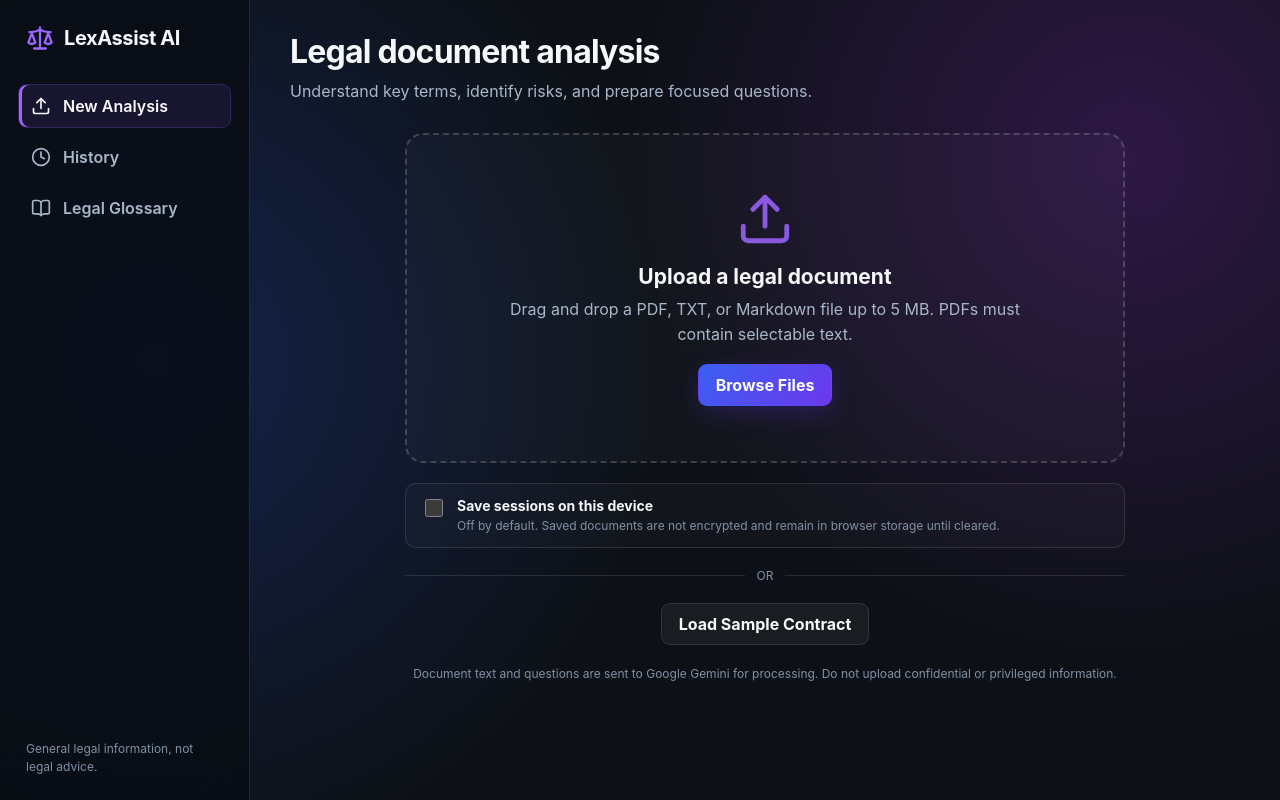
Scenario: App workflows › restores a failed question for retry
The image size is (1280, 800).
Click the button "Load Sample Contract".
click(765, 624)  # box [661, 603, 869, 645]
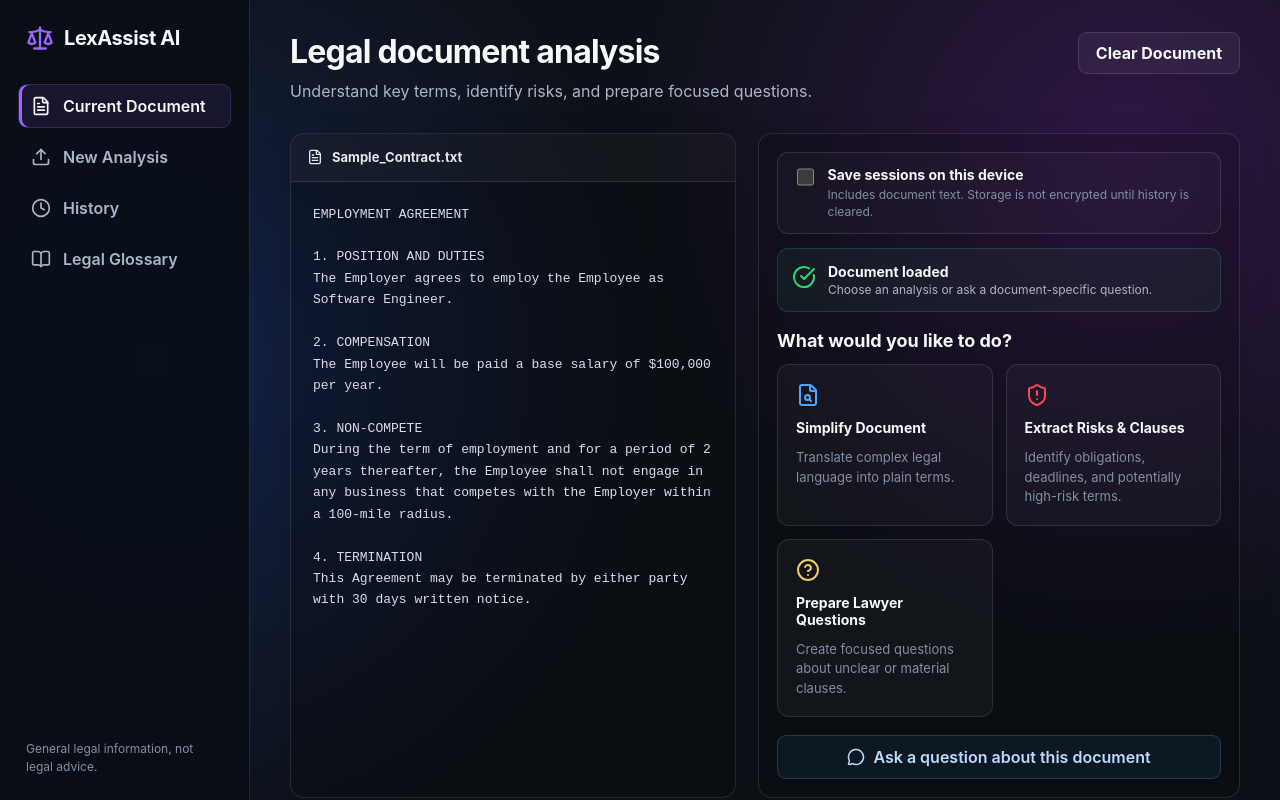
Click the button "Ask a question about this document".
click(999, 757)  # box [777, 735, 1221, 779]
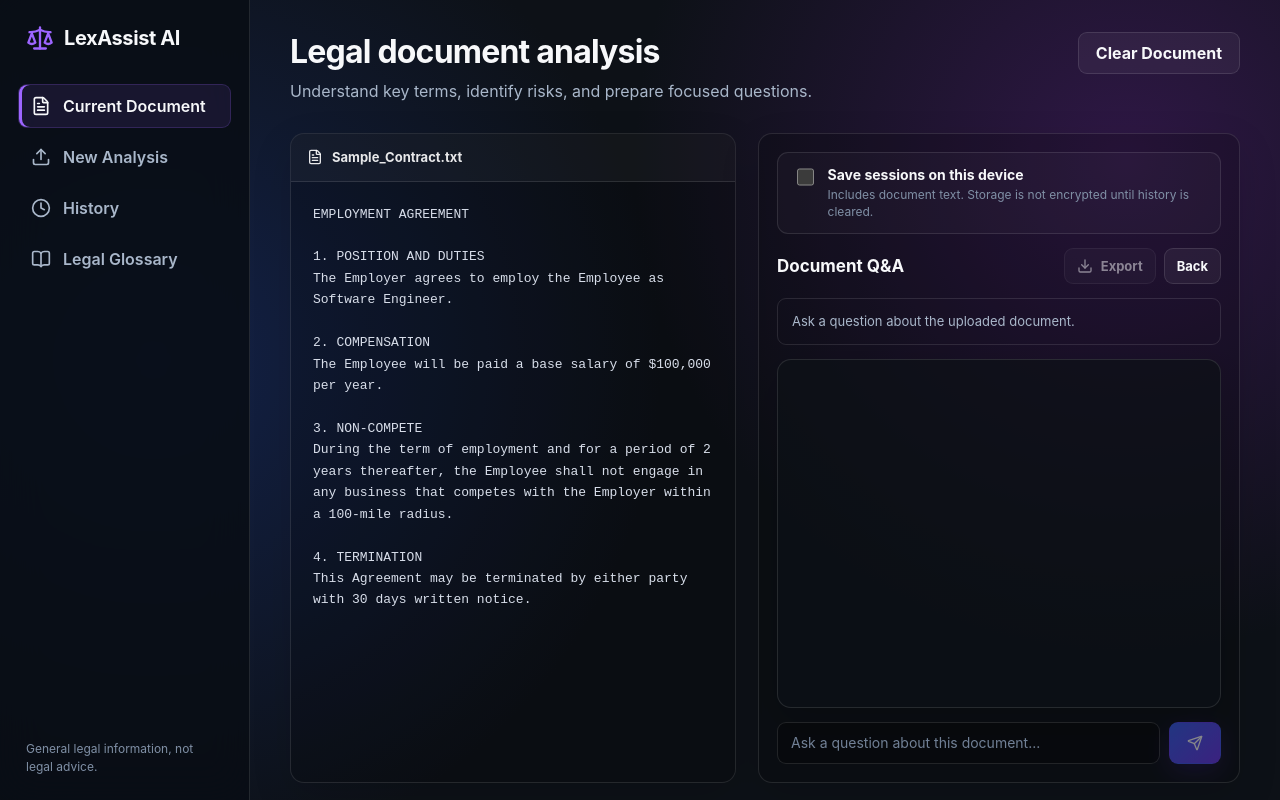
Type "What is the term?" into the field labelled "Ask a question about this document...".
click(968, 743); type("What is the term?")  # box [777, 722, 1160, 764]
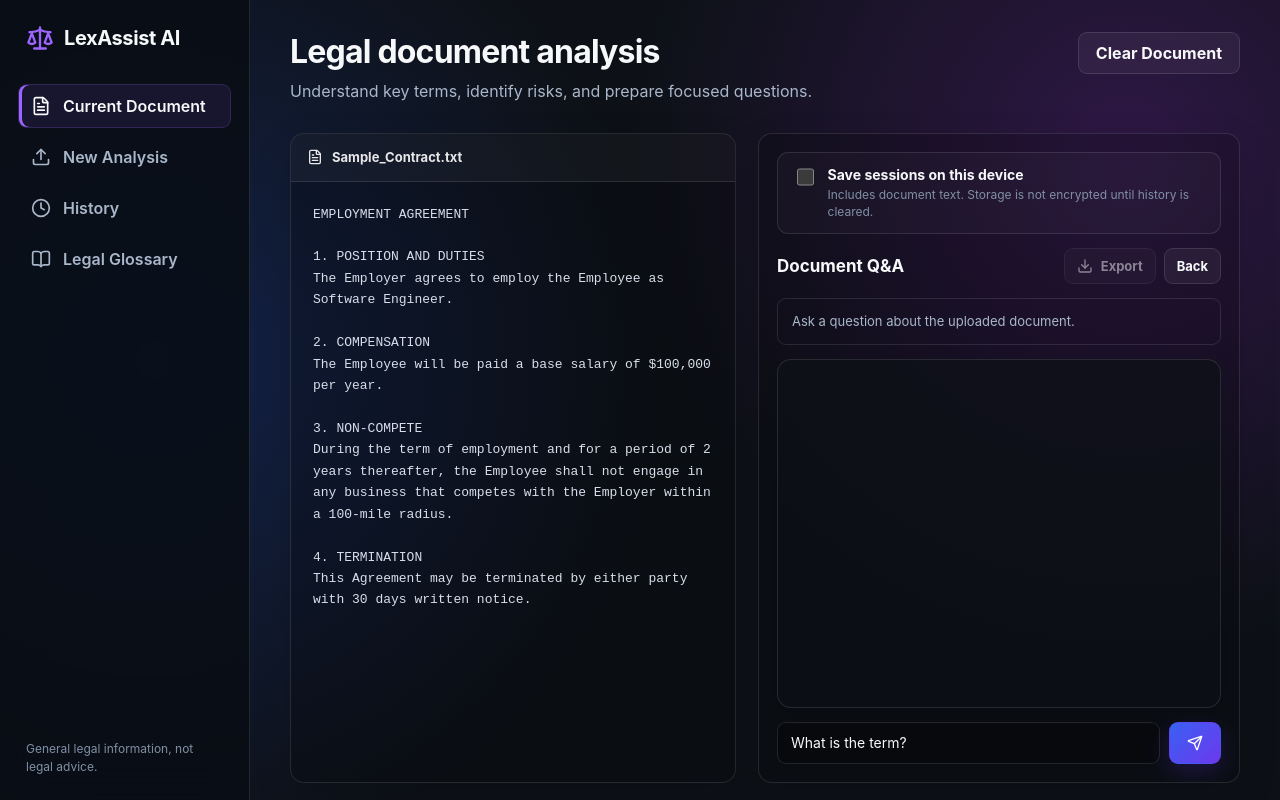
Submit the form named "ask a question about this document", box [777, 722, 1221, 764]
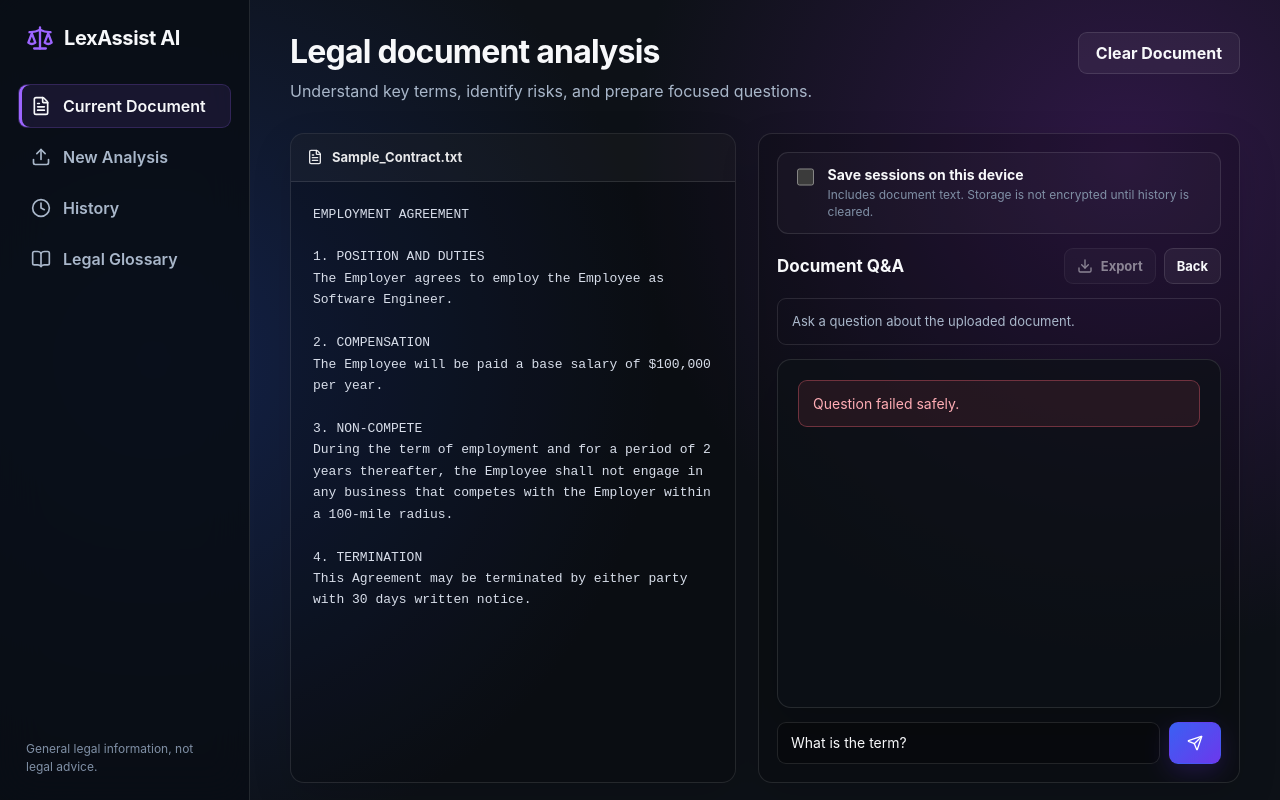
expect the message reads "Question failed safely.": met, box [813, 395, 959, 412]
